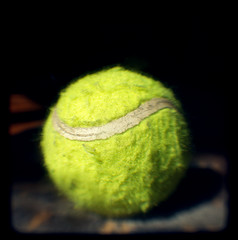tennis ball: (37, 64, 199, 221)
